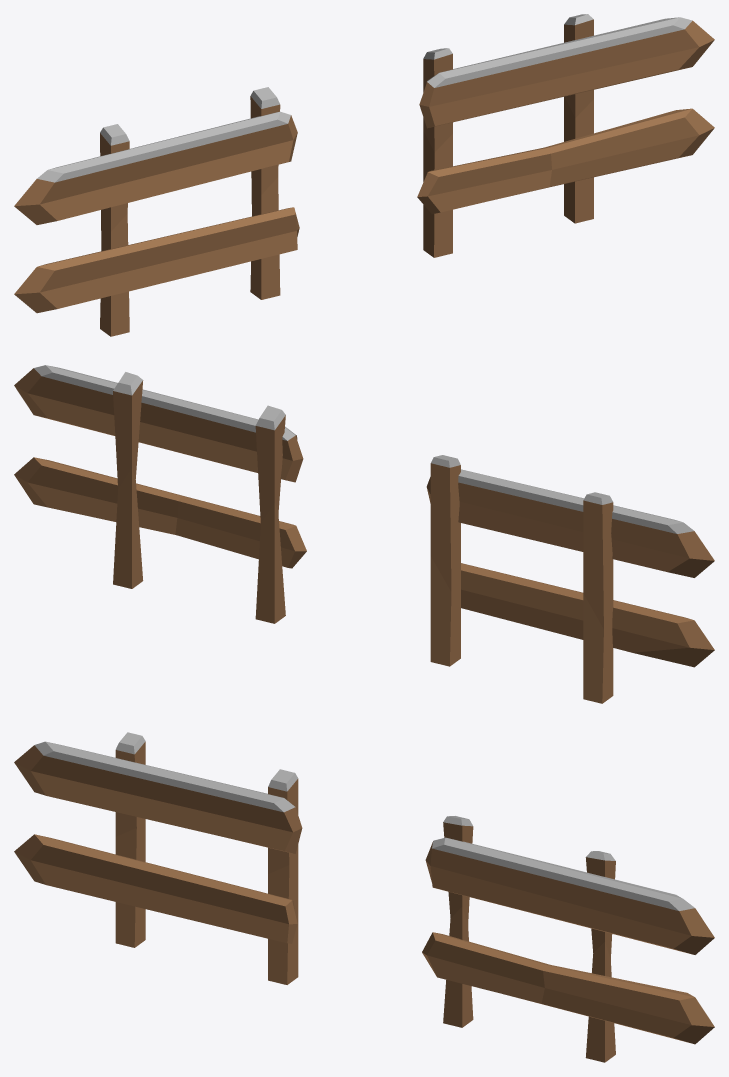
File: Fence_3 Gate Winter.fbx
3 views of the same model, one above another, from view 1: azimuth 30°, elevation 25°; view 2: azimuth 150°, elevation 25°; view 3: azimuth 330°, elevation 25° (orthographic).
Visible parts, largest first — view 1: Fence3GateWinter_mesh; view 2: Fence3GateWinter_mesh; view 3: Fence3GateWinter_mesh.
Boxes of the visible parts, x1=… form: Fence3GateWinter_mesh: x1=14, y1=14, x2=714, y2=336; Fence3GateWinter_mesh: x1=14, y1=365, x2=714, y2=703; Fence3GateWinter_mesh: x1=14, y1=732, x2=714, y2=1062.
Size of the model in its own units: 356 by 99.88 by 18.55.
